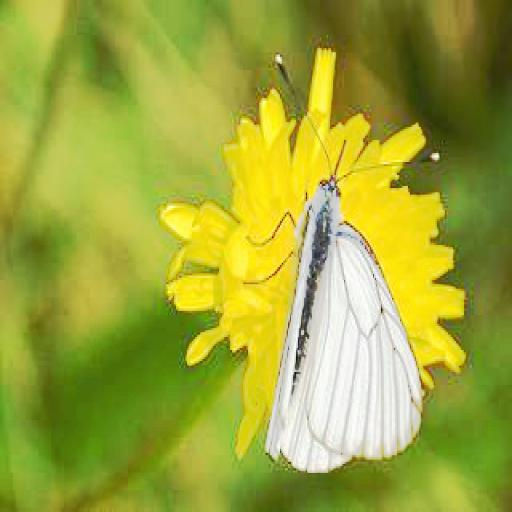dandelion: (166, 35, 456, 466)
